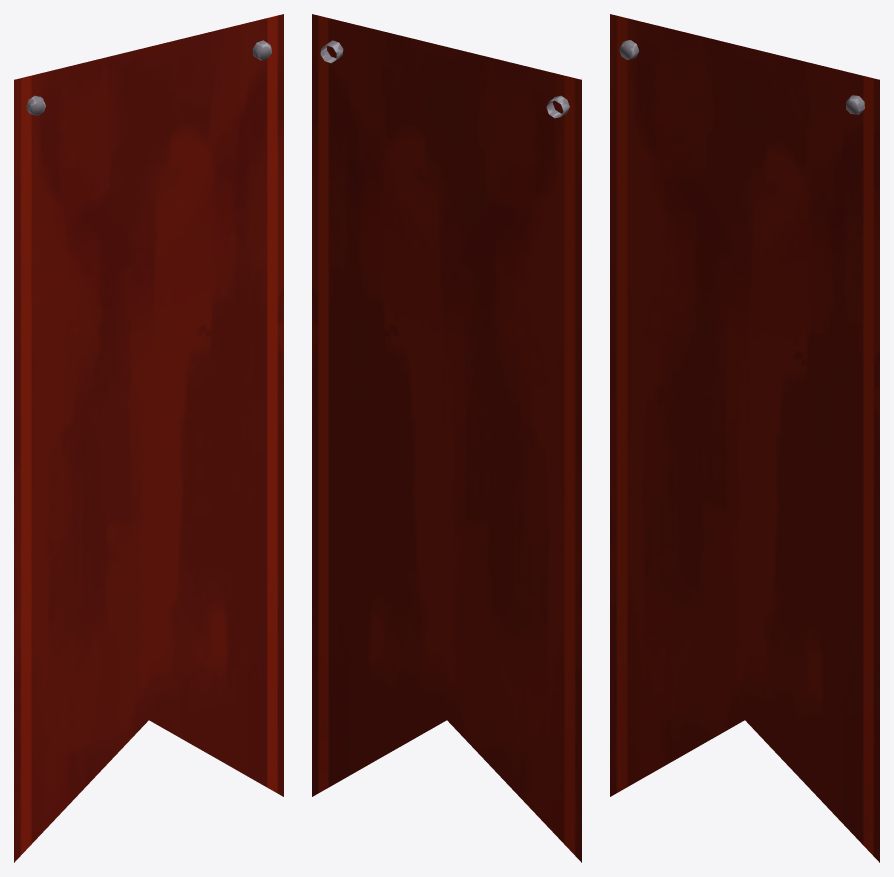
File: Banner_1_Cloth.gltf
3 views of the same model, side by side, from view 1: azimuth 30°, elevation 25°; view 2: azimuth 150°, elevation 25°; view 3: azimuth 330°, elevation 25° (orthographic).
Parts seen in each view (by area): view 1: Banner_1_Cloth; view 2: Banner_1_Cloth; view 3: Banner_1_Cloth.
Part boxes in pixels (left/top/right/bottom): Banner_1_Cloth: left=14, top=14, right=283, bottom=862; Banner_1_Cloth: left=312, top=14, right=581, bottom=862; Banner_1_Cloth: left=610, top=14, right=879, bottom=862.
Bounding box in the file's own units: 0.8101 × 2.25 × 0.0568.
Materials: 2 (2 with a texture image).
